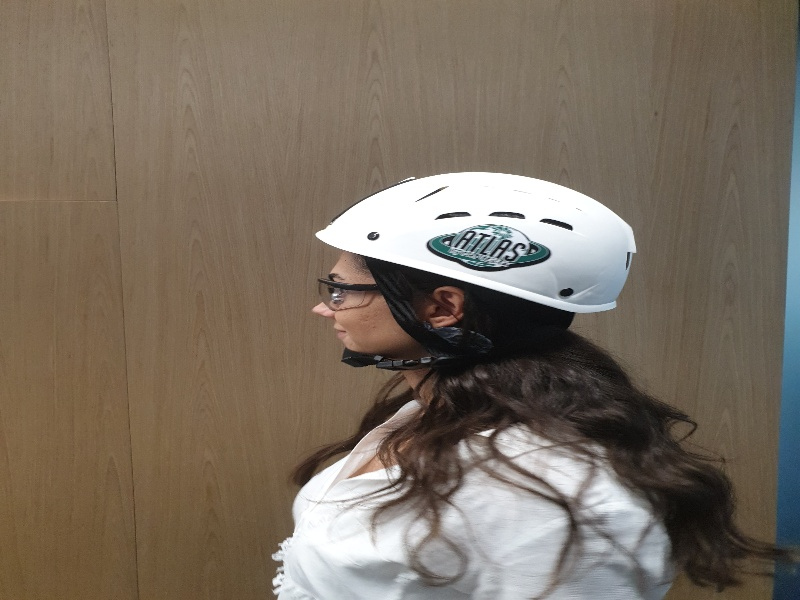Baret: (316, 173, 637, 292)
Gozluk: (316, 274, 389, 307)
